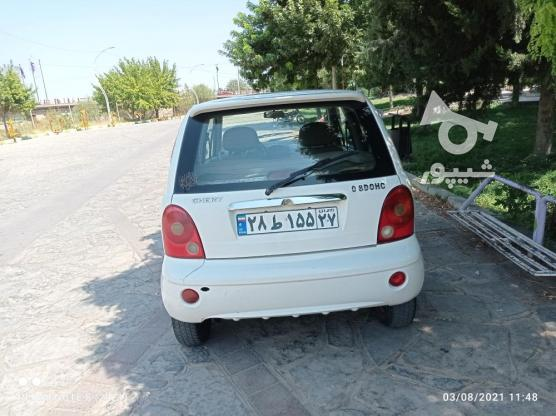car: (234, 205, 337, 236)
